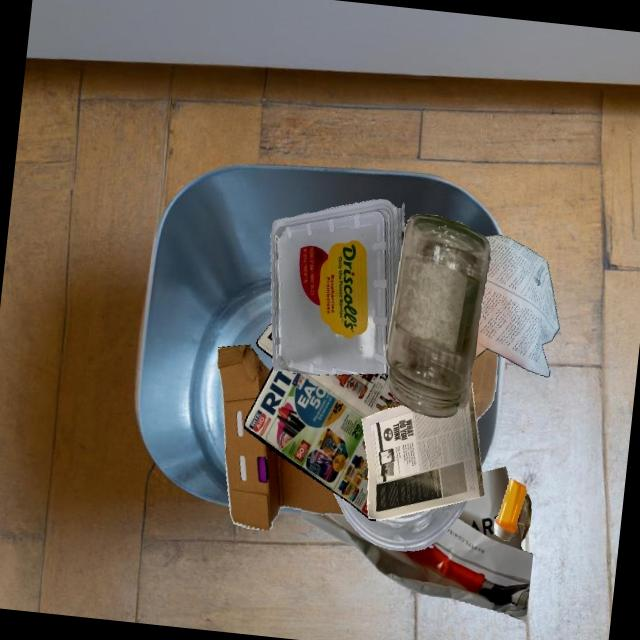cardboard: (217, 344, 344, 531), (470, 349, 497, 421)
glass: (386, 214, 490, 417), (517, 493, 531, 542), (477, 304, 481, 327)
paper: (300, 466, 532, 623), (243, 366, 403, 520), (361, 382, 484, 520), (473, 235, 559, 377)
plastic: (270, 199, 404, 375), (332, 491, 467, 550), (493, 478, 526, 541)
